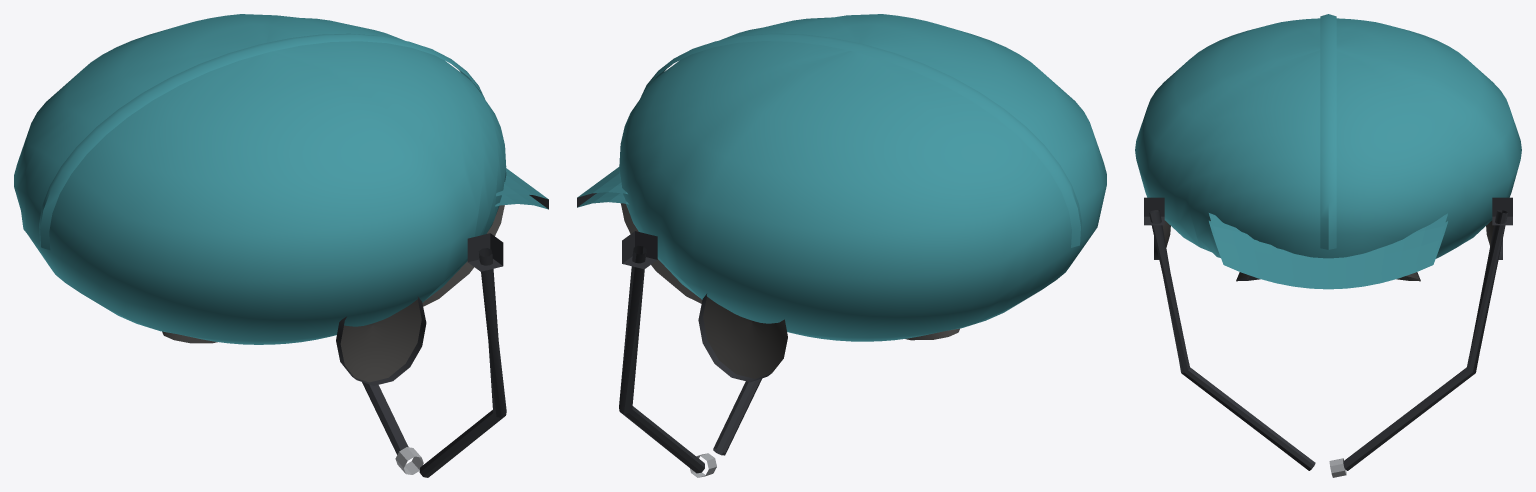
The model's file is SM_C26_Helmet_HeroR2.fbx.
The picture shows the model from 3 angles, left to right: view 1: azimuth 30°, elevation 25°; view 2: azimuth 150°, elevation 25°; view 3: azimuth 270°, elevation 25°; orthographic projection. The views are drawn at different scales.
Visible parts, largest first — view 1: SM_C26_Helmet_HeroR2; view 2: SM_C26_Helmet_HeroR2; view 3: SM_C26_Helmet_HeroR2.
Boxes of the visible parts, x1,y1,x2,y2 form: SM_C26_Helmet_HeroR2: (14,14,548,477); SM_C26_Helmet_HeroR2: (577,14,1106,477); SM_C26_Helmet_HeroR2: (1135,14,1521,477).
Bounding box in the file's own units: 28.71 × 26 × 27.7.
